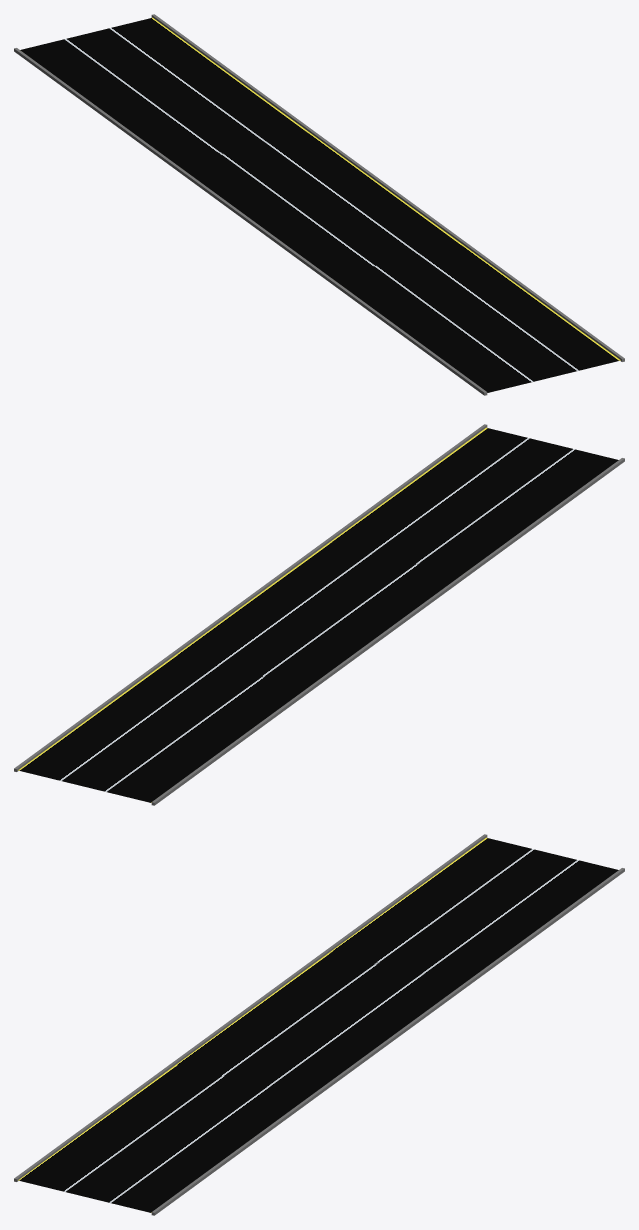
The model's file is trackstraight.fbx.
3 views of the same model, one above another, from view 1: azimuth 30°, elevation 25°; view 2: azimuth 150°, elevation 25°; view 3: azimuth 330°, elevation 25° (orthographic).
Visible parts, largest first — view 1: Pavement.002; view 2: Pavement.002; view 3: Pavement.002.
Boxes of the visible parts, x1,y1,x2,y2 form: Pavement.002: (14, 14, 624, 395); Pavement.002: (14, 424, 624, 805); Pavement.002: (14, 834, 624, 1215).
Bounding box in the file's own units: 23967 × 4133 × 83.66.
2 materials, 1 textured.
